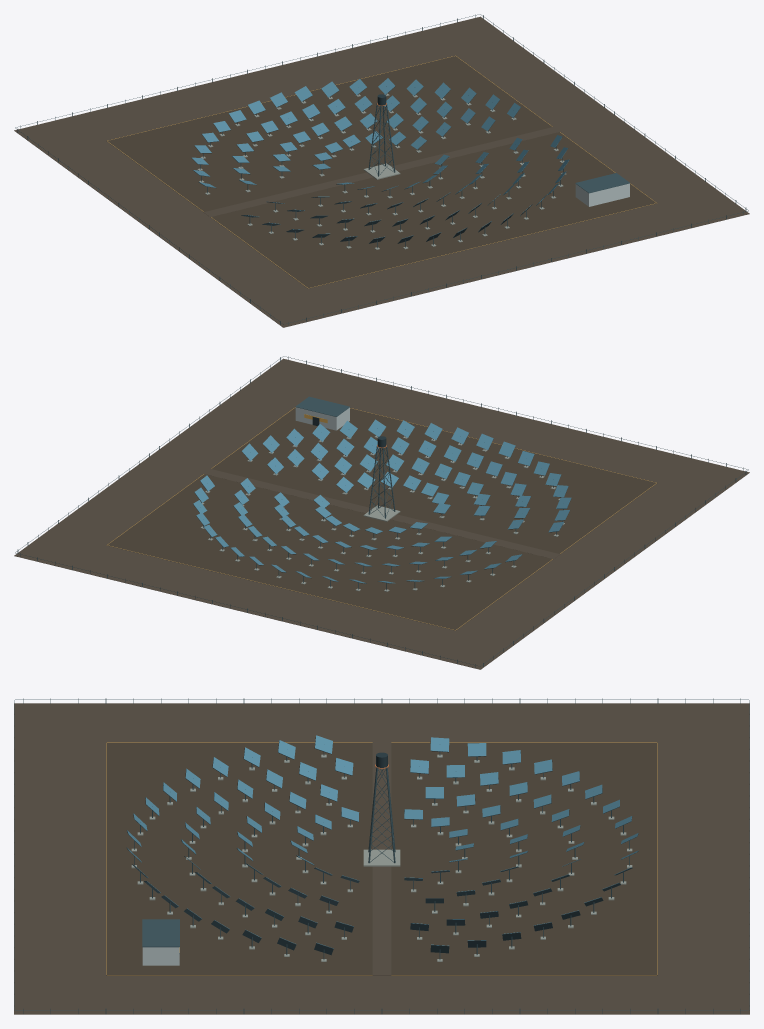
The model's file is tower_station_preview.glb.
3 views of the same model, one above another, from view 1: azimuth 30°, elevation 25°; view 2: azimuth 150°, elevation 25°; view 3: azimuth 270°, elevation 25° (orthographic). The views are drawn at different scales.
Parts seen in each view (by area): view 1: Usable120m, Site160m, RadialServiceRoad, FutureServiceBuilding, FutureServiceRoof; view 2: Usable120m, Site160m, RadialServiceRoad, FutureServiceBuilding, FutureServiceRoof; view 3: Usable120m, Site160m, RadialServiceRoad, FutureServiceRoof, ExteriorFence.002, ExteriorFence.003, FutureServiceBuilding, TowerFooting, NetBoundary.003.
Boxes of the visible parts, x1=… form: Usable120m: x1=106, y1=55, x2=657, y2=288; Site160m: x1=14, y1=16, x2=749, y2=327; RadialServiceRoad: x1=204, y1=127, x2=559, y2=216; FutureServiceBuilding: x1=575, y1=183, x2=629, y2=206; FutureServiceRoof: x1=575, y1=173, x2=629, y2=193; Usable120m: x1=106, y1=407, x2=657, y2=630; Site160m: x1=14, y1=358, x2=749, y2=669; RadialServiceRoad: x1=204, y1=469, x2=559, y2=558; FutureServiceBuilding: x1=295, y1=407, x2=349, y2=430; FutureServiceRoof: x1=295, y1=396, x2=349, y2=416; Usable120m: x1=106, y1=742, x2=657, y2=975; Site160m: x1=14, y1=703, x2=749, y2=1014; RadialServiceRoad: x1=372, y1=742, x2=391, y2=975; FutureServiceRoof: x1=142, y1=919, x2=179, y2=947; ExteriorFence.002: x1=15, y1=699, x2=748, y2=699; ExteriorFence.003: x1=15, y1=1010, x2=748, y2=1010; FutureServiceBuilding: x1=142, y1=947, x2=179, y2=965; TowerFooting: x1=363, y1=849, x2=400, y2=866; NetBoundary.003: x1=107, y1=975, x2=656, y2=975.
Size of the model in its own units: 16 by 2.5 by 16.
